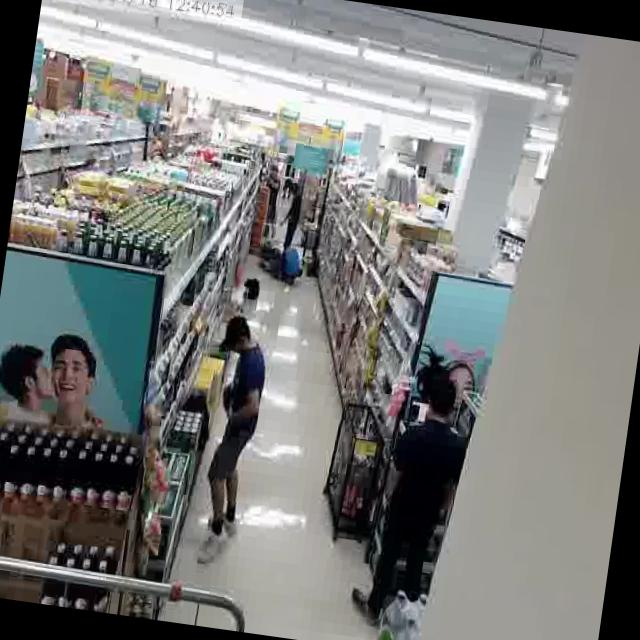shoplifting: (175, 304, 282, 577)
